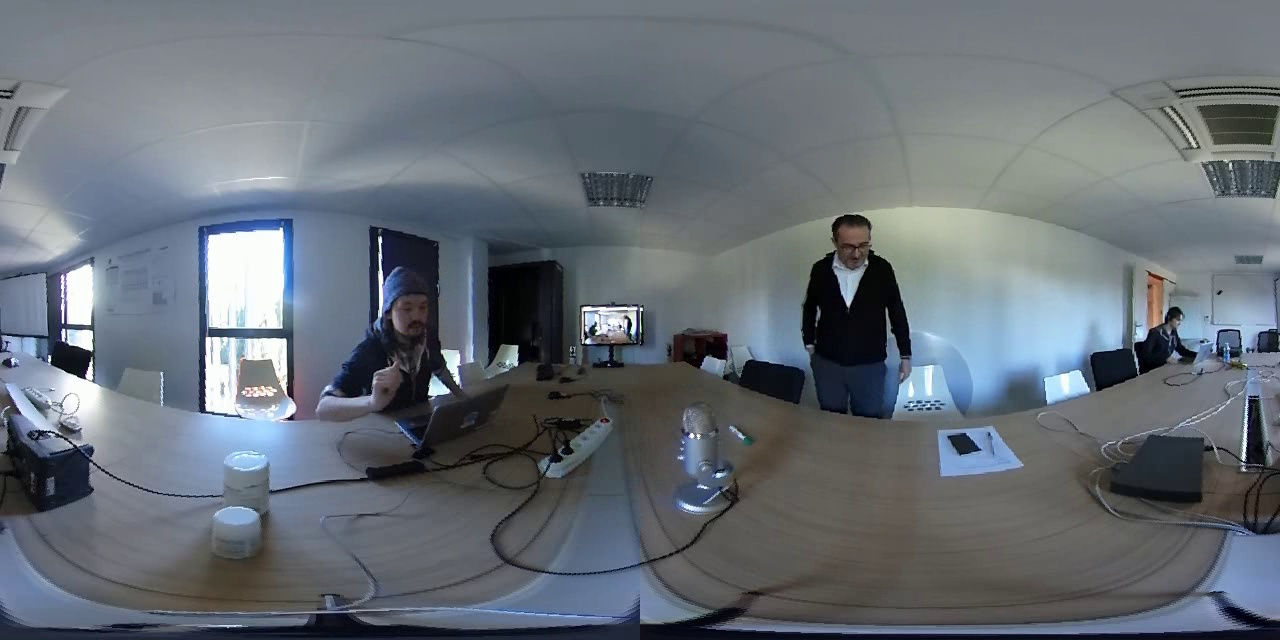person: (798, 198, 914, 392), (346, 253, 464, 406), (1146, 300, 1195, 364)
